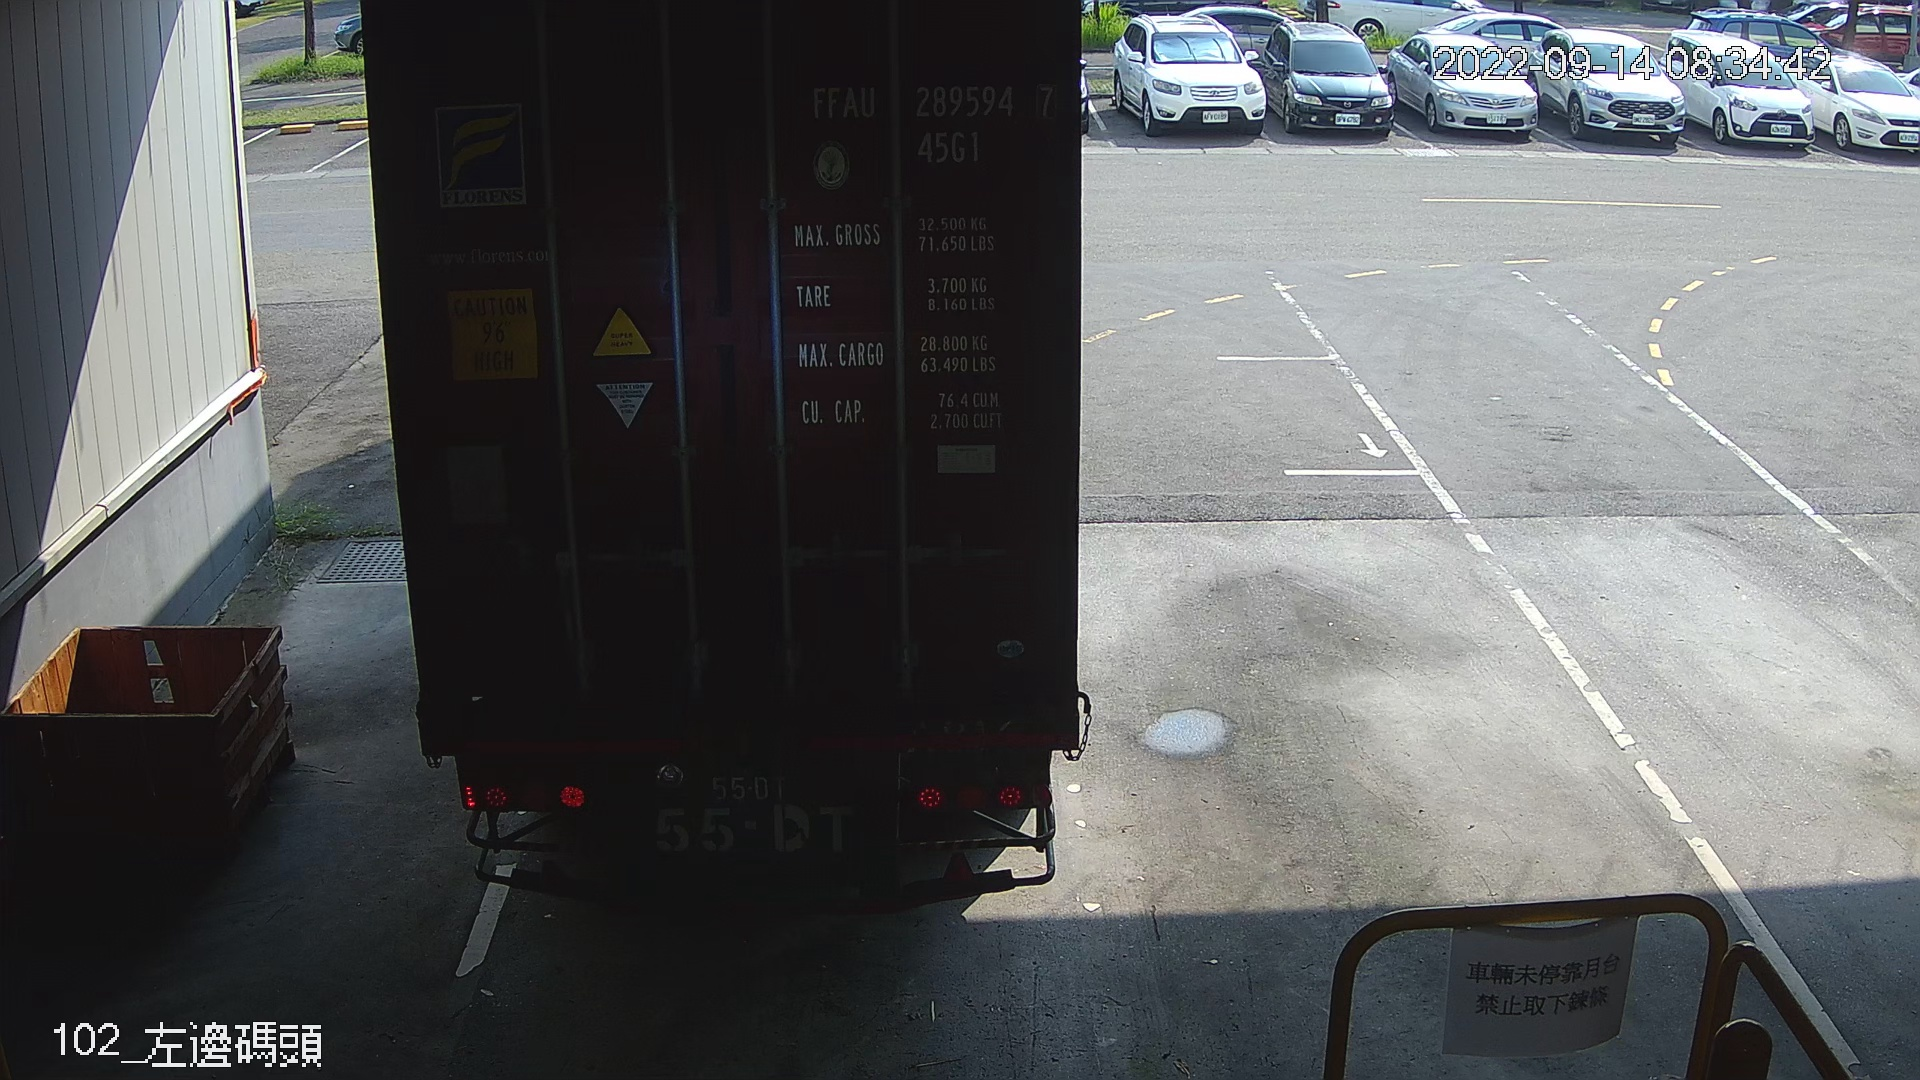container: (795, 70, 1069, 173)
